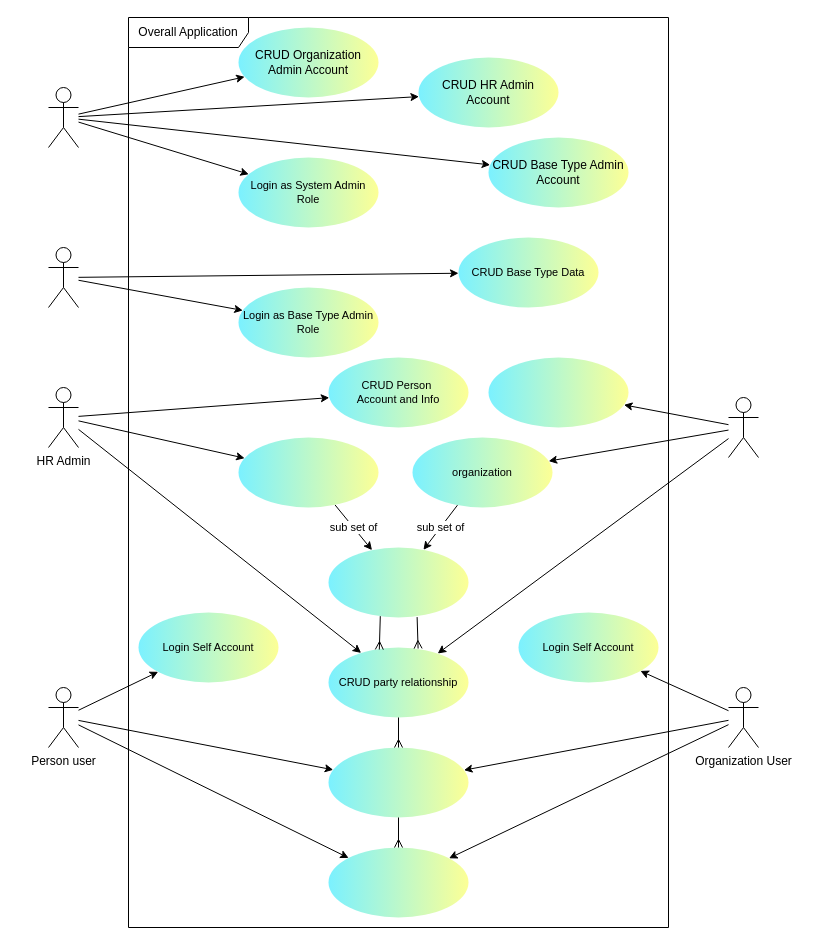
Image size: 813x945. Some labels were removed from this diagram. The centre of each missing label's shape, as x and y in pixels:
"Base Type Admin" goes at pixel 63 277.
"CRUD party" goes at pixel 398 582.
"CRUD self communication event" goes at pixel 398 782.
"CRUD self communication event purpose" goes at pixel 398 882.
"Login as Organization Admin Role" goes at pixel 558 392.
"Organization Admin" goes at pixel 743 427.
"person" goes at pixel 308 472.
"System Admin" goes at pixel 63 117.
